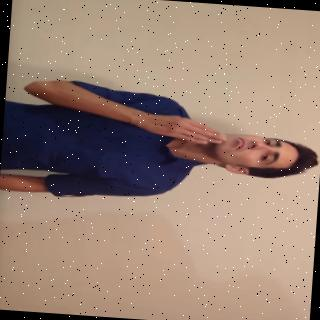ThankYou: (0, 74, 320, 215)
